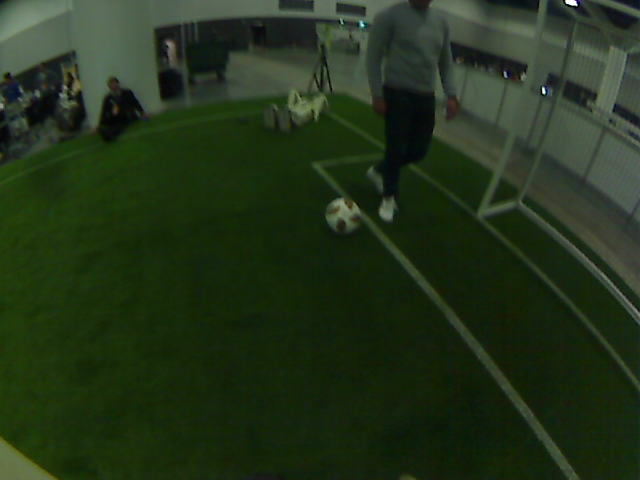ball: (323, 197, 363, 237)
goalpost: (461, 160, 501, 220)
robot: (275, 98, 290, 133)
